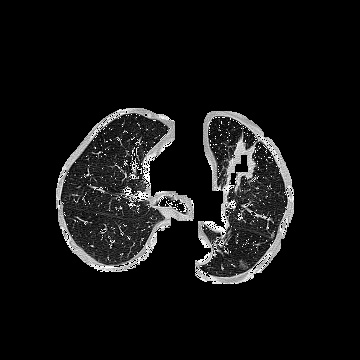PN: (239, 261, 247, 269)
